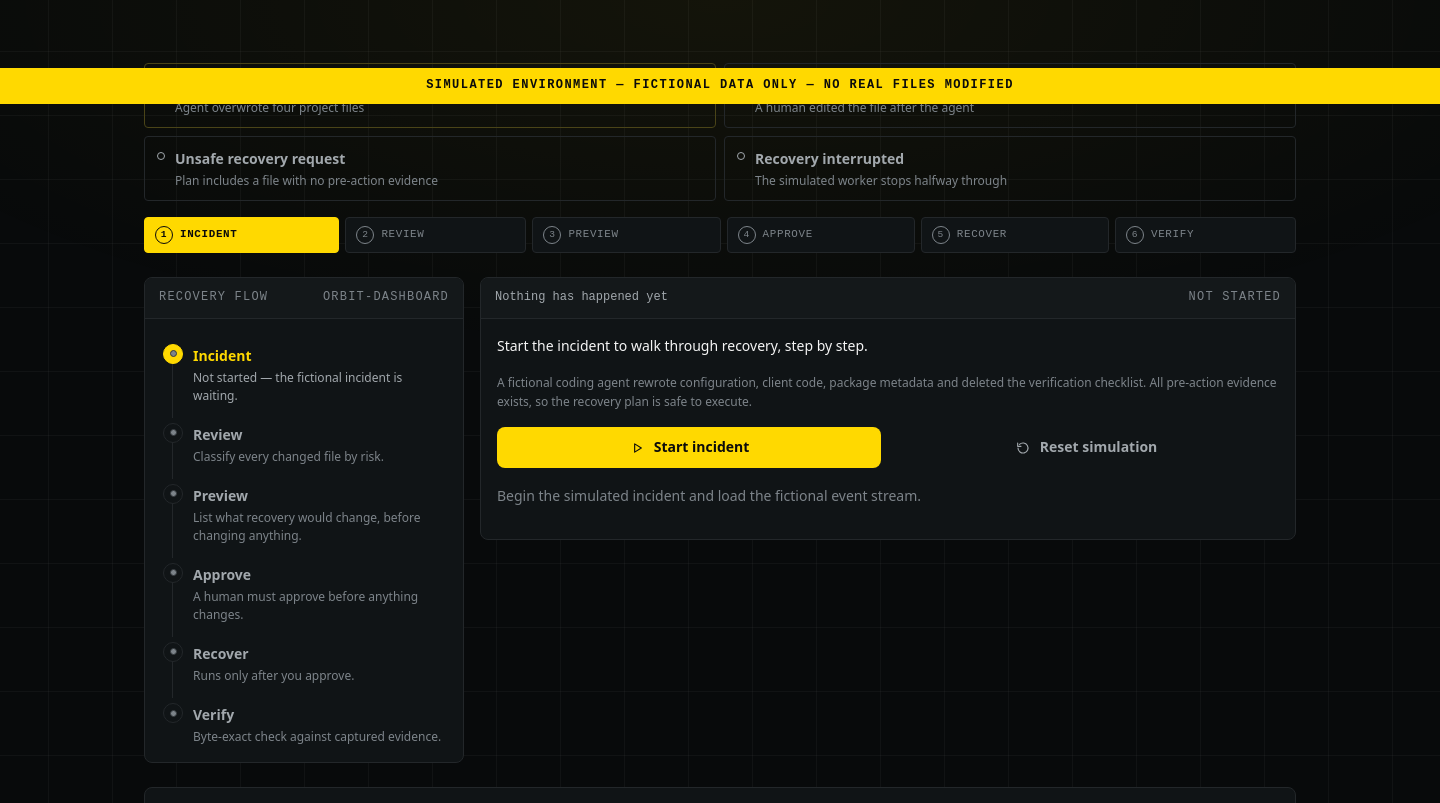
Demo page — state transitions through the UI › switching scenarios mid-run clears every result and event
(page scrolled)
Click the button "Start incident" at (689, 448), box top-left (497, 427), bottom-right (881, 468)
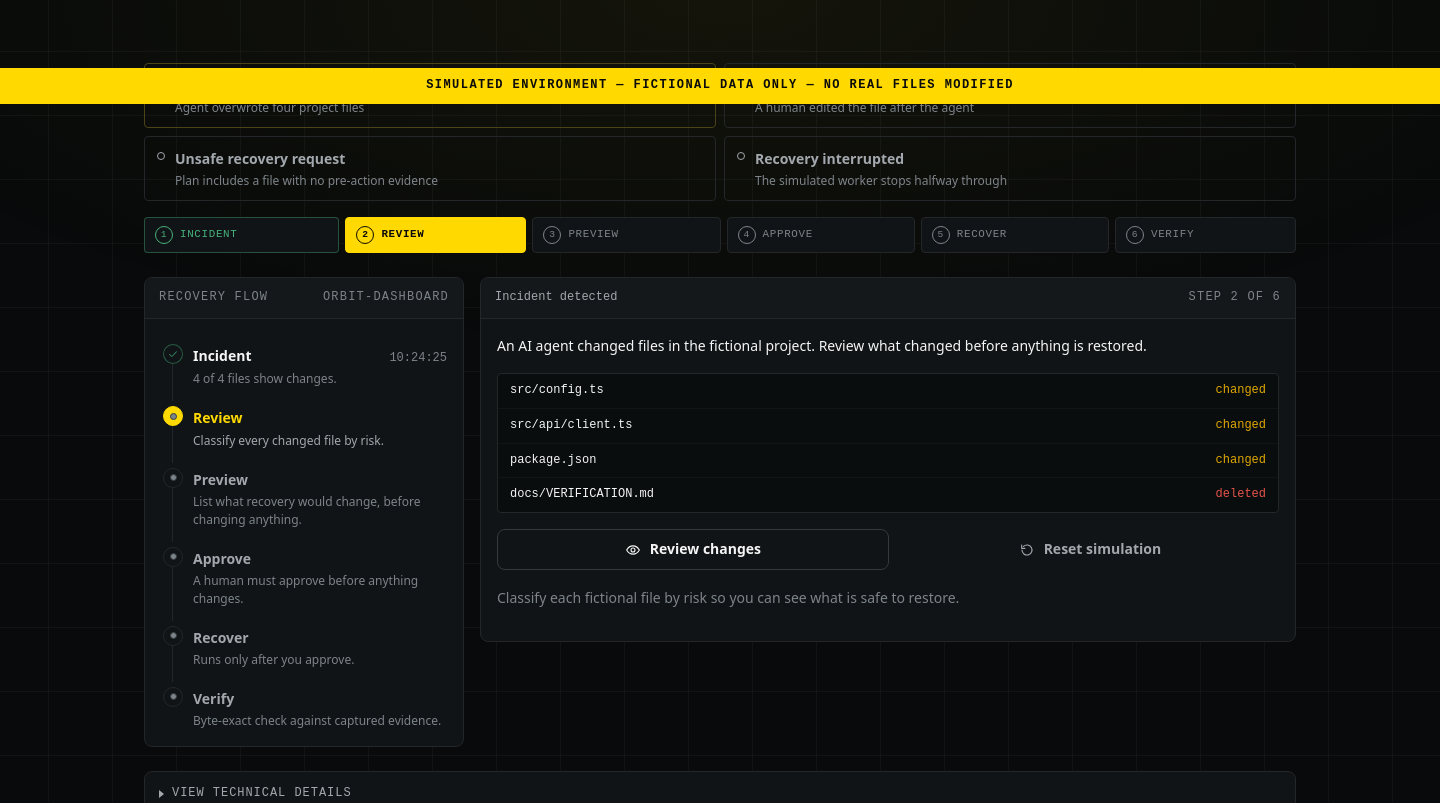
Click the button "Review changes" at (693, 550), box top-left (497, 529), bottom-right (889, 570)
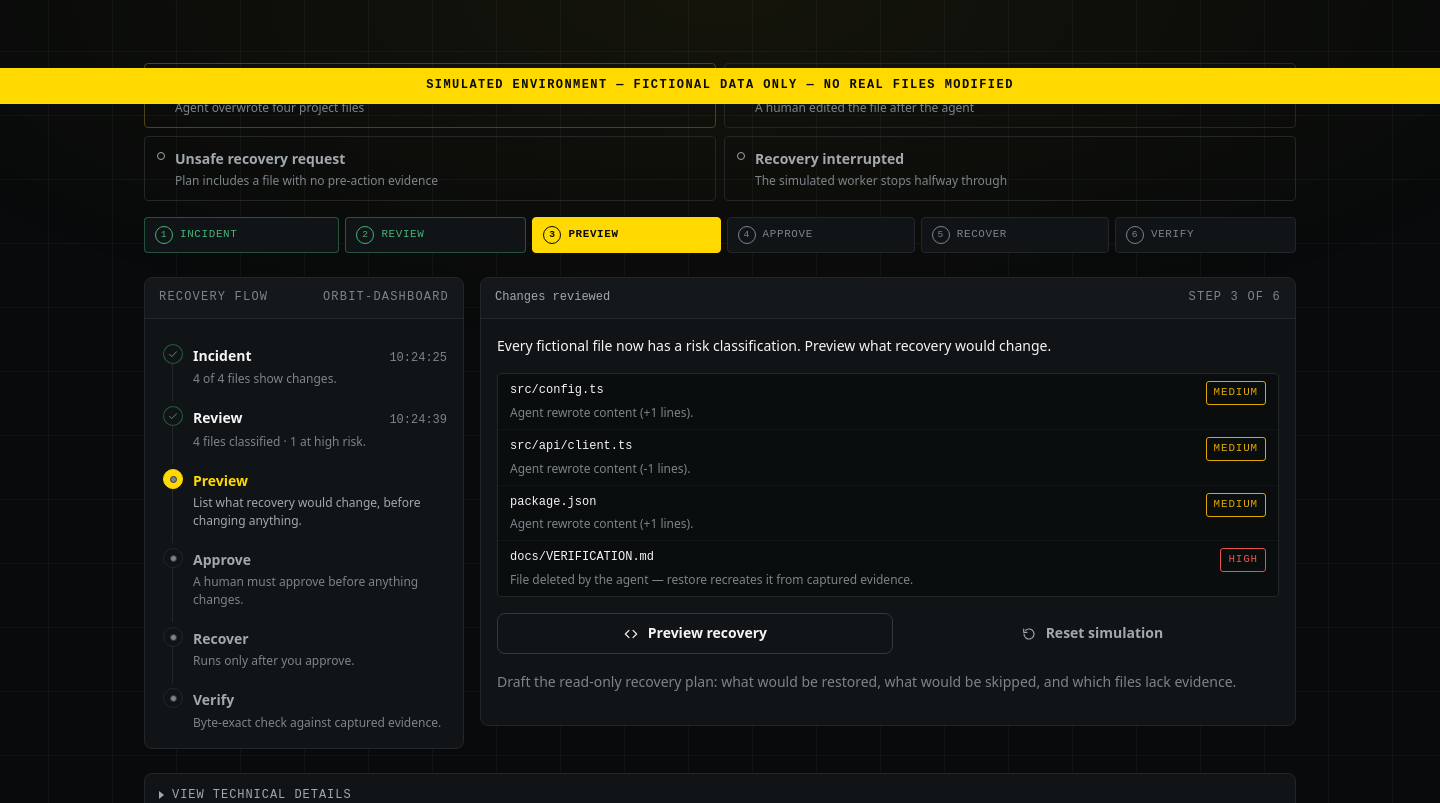
Click the button "Preview recovery" at (695, 634), box top-left (497, 613), bottom-right (893, 654)
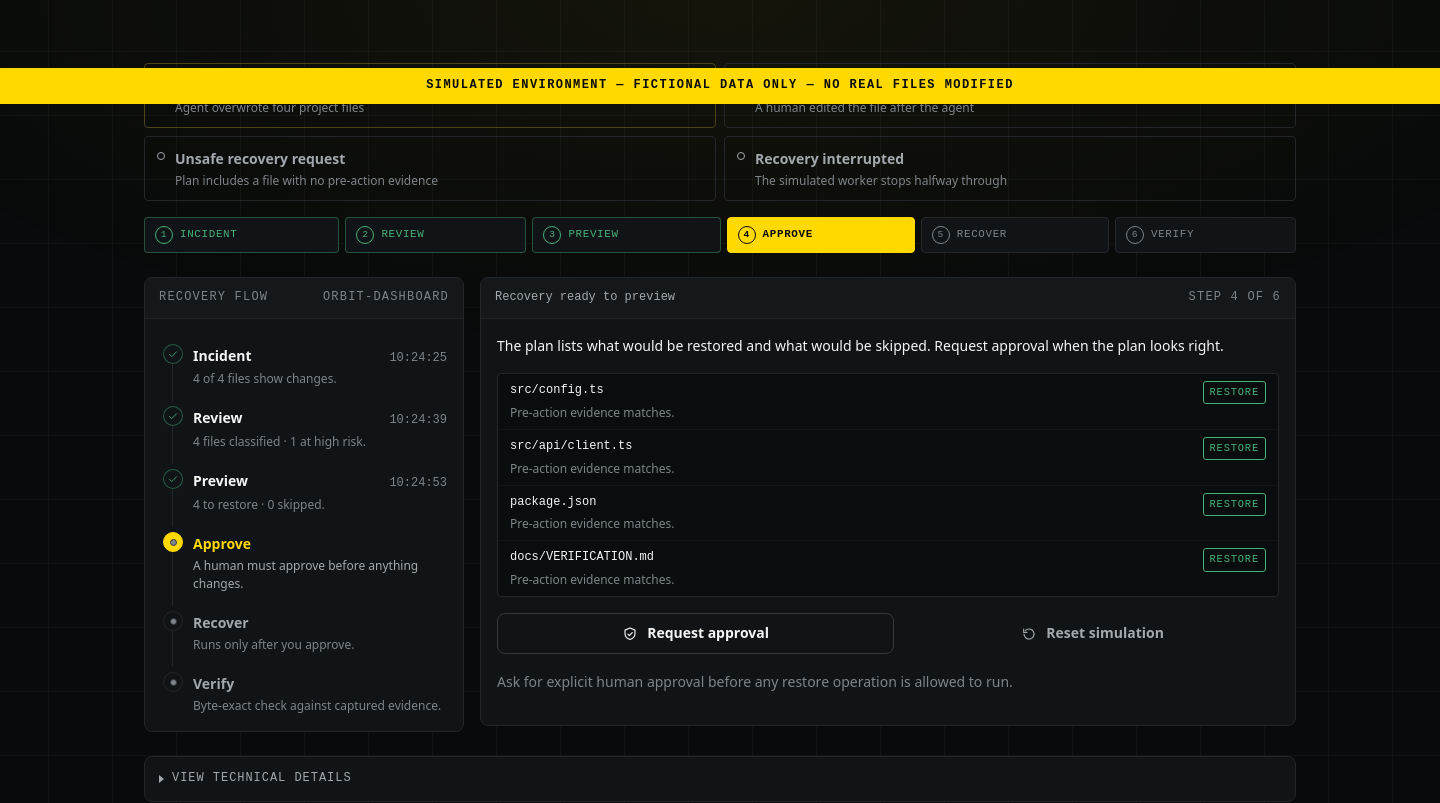
Click the button "Request approval" at (696, 634), box top-left (497, 613), bottom-right (894, 654)
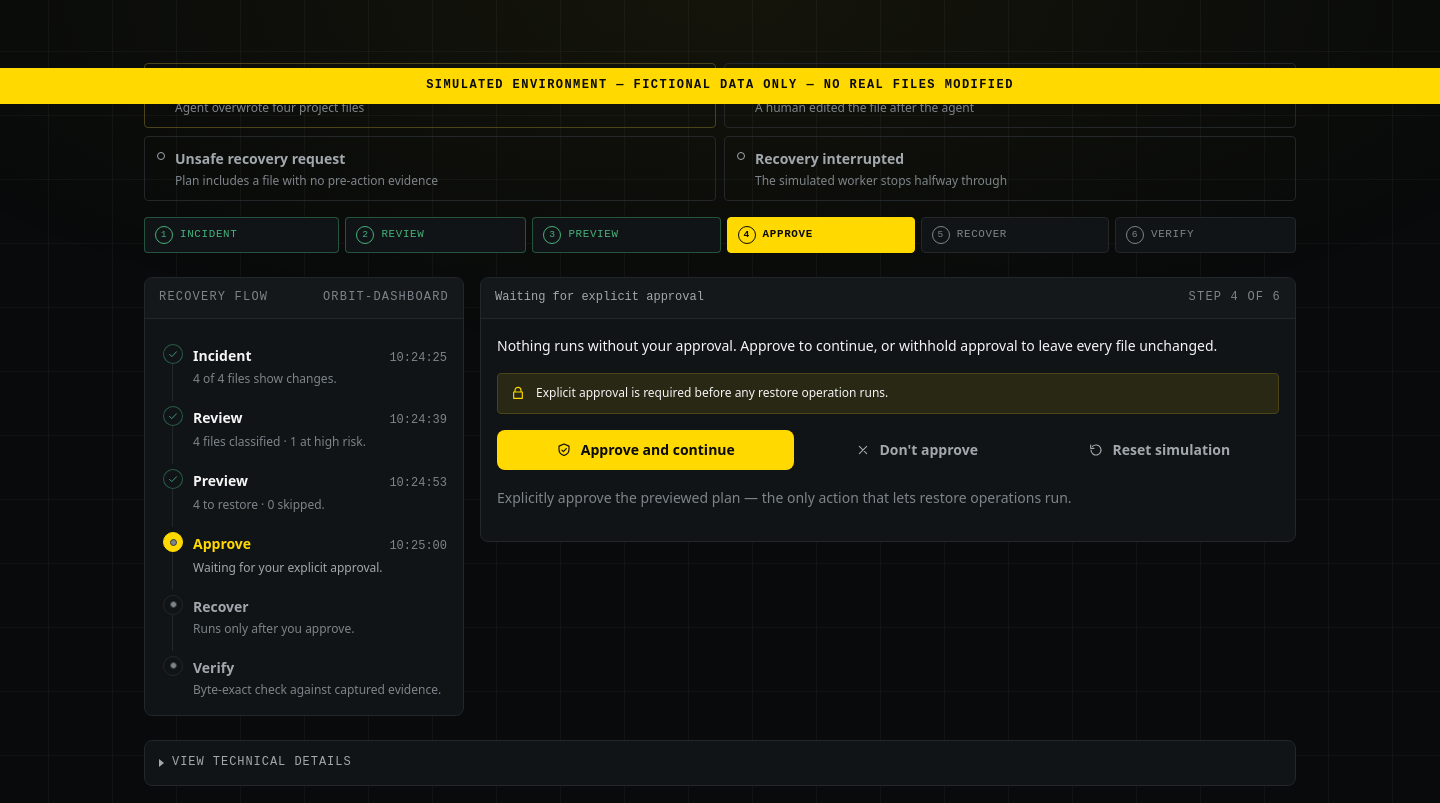
Click the button "Approve and continue" at (645, 450), box top-left (497, 430), bottom-right (794, 470)
Wait 9000 ms
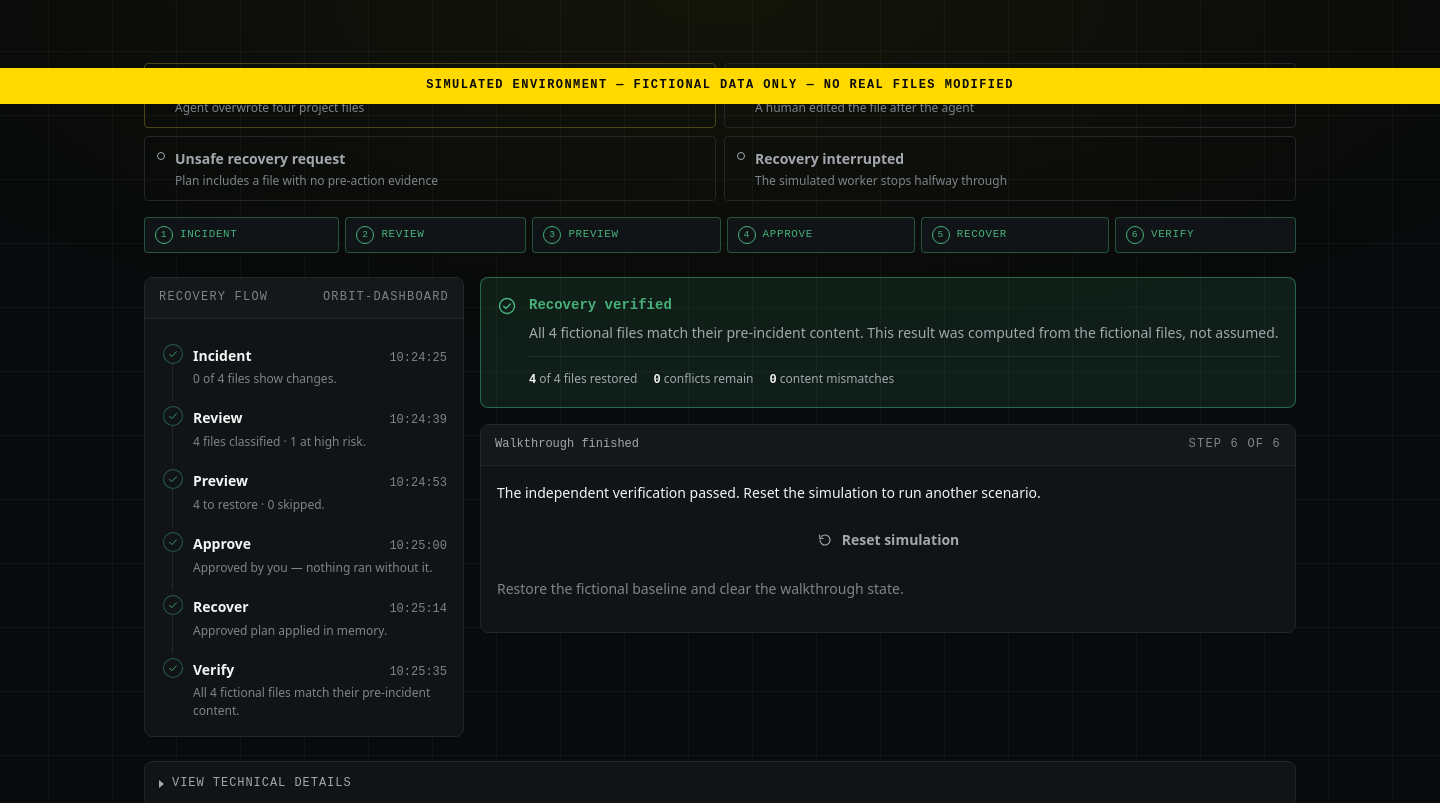
Check: the text "Recovery verified" is shown, box top-left (529, 297), bottom-right (672, 313)
Click the button "Unsafe recovery request" at (260, 158), box top-left (144, 136), bottom-right (716, 201)
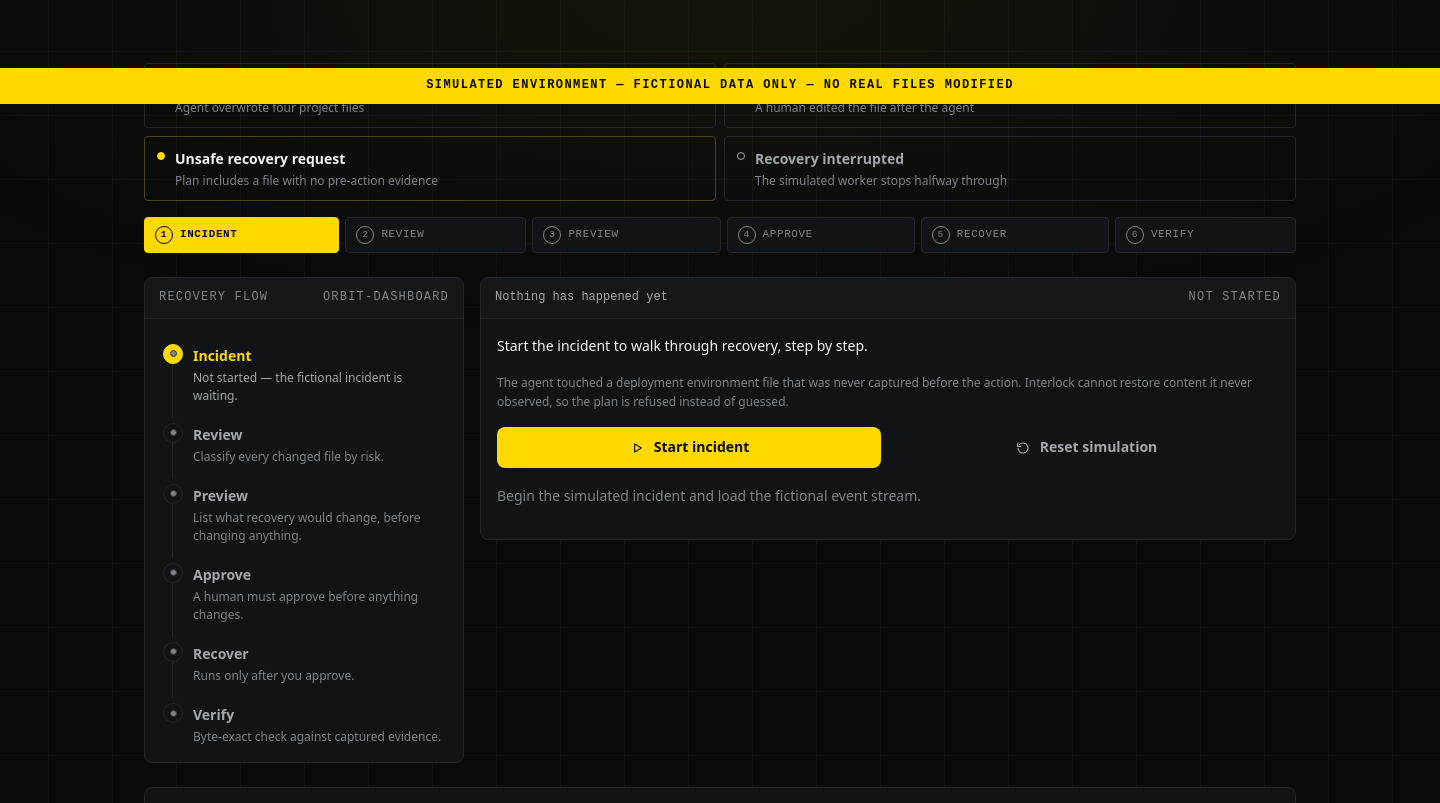
Check: the heading "Nothing has happened yet" is shown, box top-left (495, 288), bottom-right (668, 308)
Check: the text "Recovery verified" is gone
